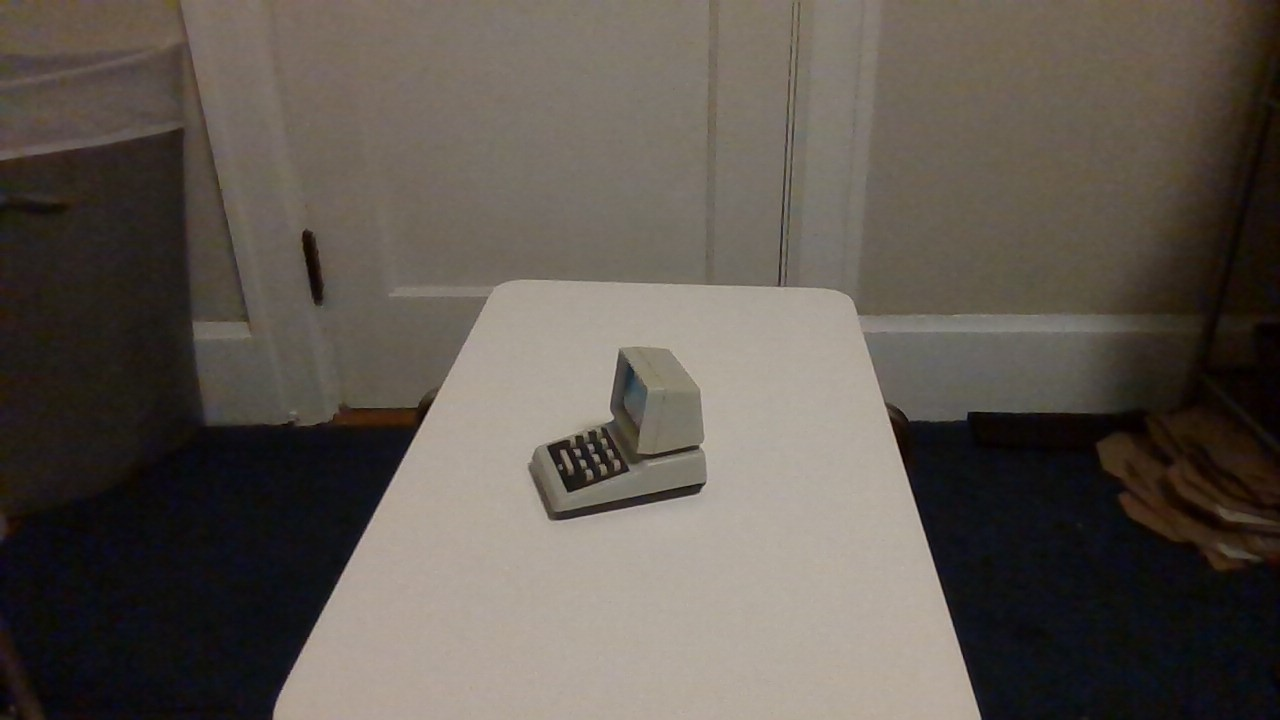Toy: (514, 328, 731, 534)
